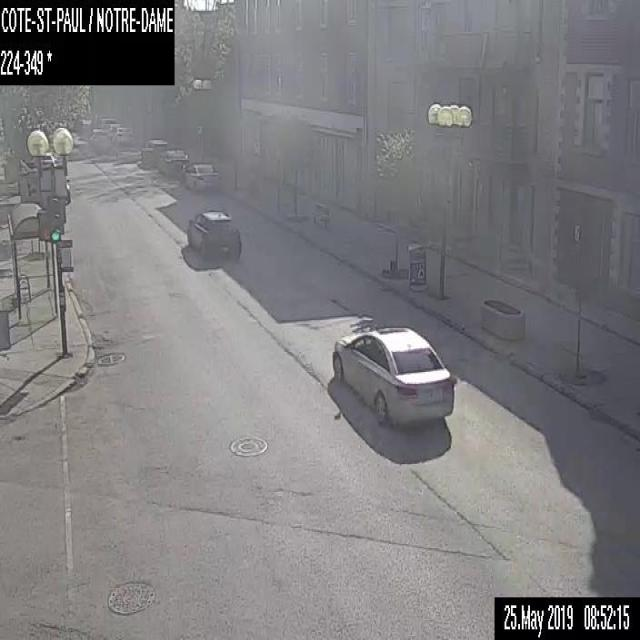vehicle: (329, 321, 453, 431), (184, 208, 242, 259), (183, 163, 218, 193), (158, 148, 189, 175), (140, 138, 167, 167), (110, 126, 132, 144)
